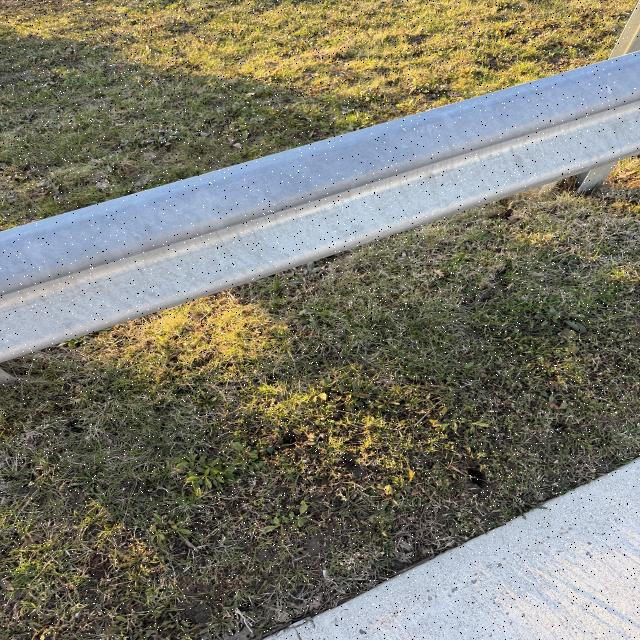Guard rail: (30, 71, 640, 311)
